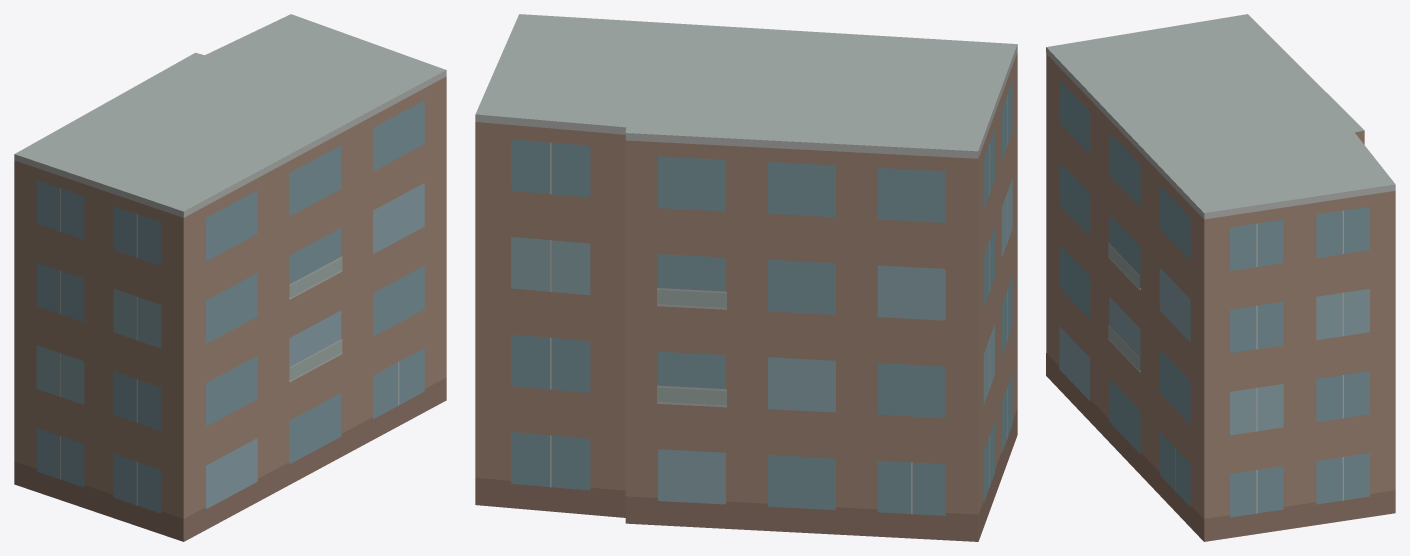
Rendered from survey-upis-32571630.glb.
The picture shows the model from 3 angles, left to right: view 1: azimuth 30°, elevation 25°; view 2: azimuth 150°, elevation 25°; view 3: azimuth 270°, elevation 25°; orthographic projection. The views are drawn at different scales.
Visible parts, largest first — view 1: survey-upis-32571630.tmp; view 2: survey-upis-32571630.tmp; view 3: survey-upis-32571630.tmp.
Boxes of the visible parts, left/top/right/bottom form: survey-upis-32571630.tmp: left=14, top=14, right=446, bottom=541; survey-upis-32571630.tmp: left=475, top=14, right=1017, bottom=541; survey-upis-32571630.tmp: left=1046, top=14, right=1395, bottom=541.
Bounding box in the file's own units: 16.65 × 12.8 × 12.35.
